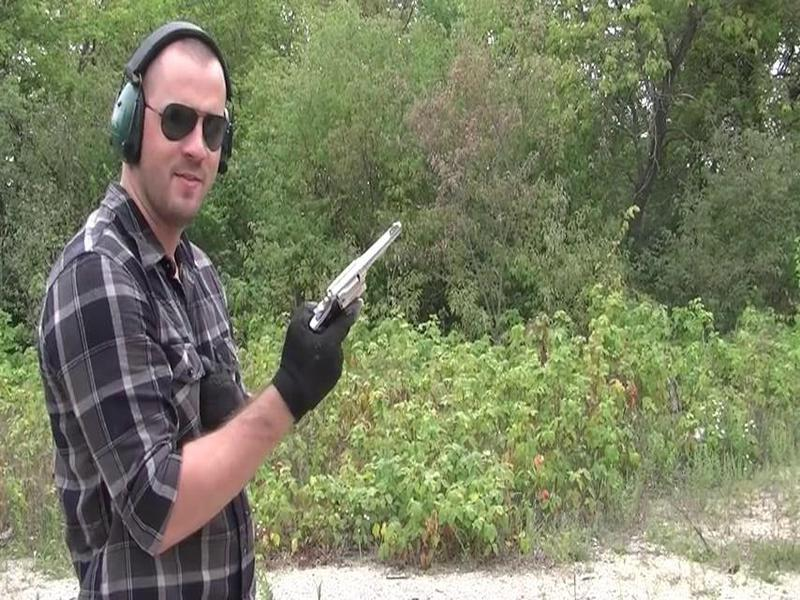Revolver: (315, 208, 419, 351)
